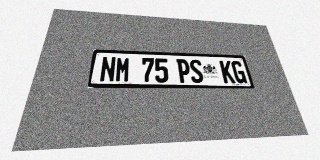5: (155, 58, 169, 83)
7: (141, 58, 155, 83)
G: (231, 61, 247, 83)
K: (219, 60, 236, 83)
M: (115, 57, 130, 82)
N: (99, 56, 116, 82)
P: (176, 59, 191, 83)
S: (189, 59, 204, 83)
